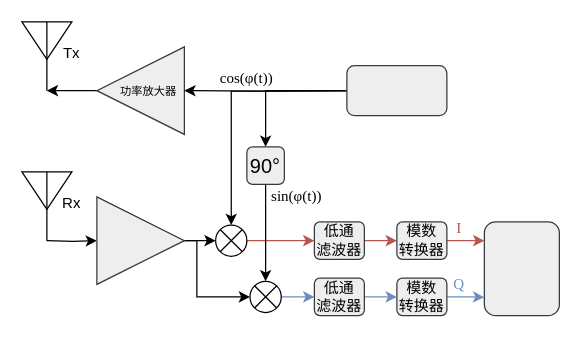
Some shapes in this 581 by 338 pixel diagram are drawn without their labels. The box of each missing label's shape, as (x1, y1, x2, y2) in pixels:
低噪声 放大器: (96, 196, 184, 284)
数字信号 处理单元: (483, 221, 559, 316)
本振发生器: (346, 64, 447, 116)
